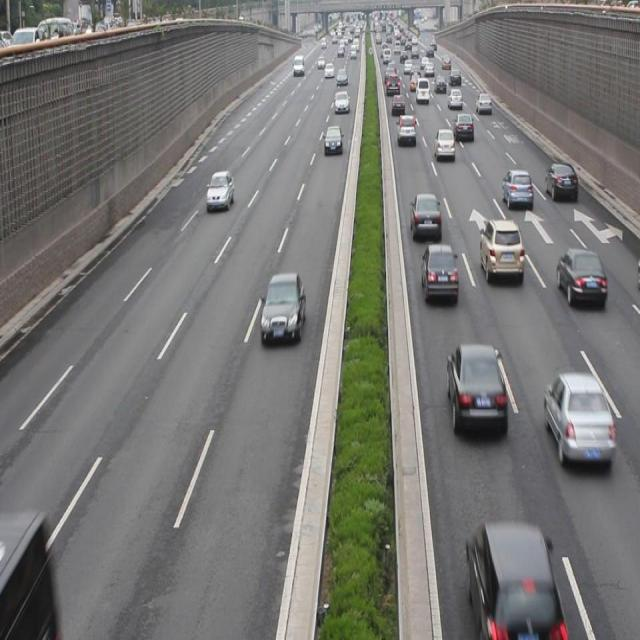car: (464, 522, 560, 632), (542, 370, 614, 466), (446, 342, 507, 438), (260, 276, 304, 343), (478, 217, 522, 283), (555, 250, 604, 306), (419, 244, 458, 302), (409, 193, 441, 241), (544, 161, 576, 203), (500, 169, 532, 209), (206, 170, 232, 209), (396, 114, 416, 146), (451, 113, 473, 141), (434, 129, 455, 158), (323, 123, 342, 153)
